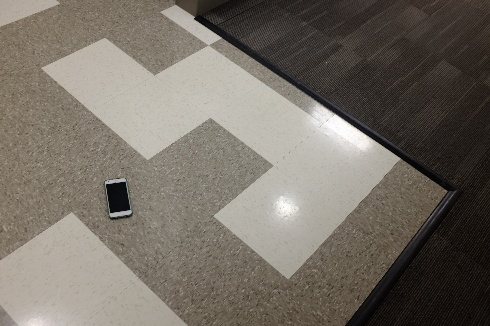phone: (93, 180, 142, 212)
